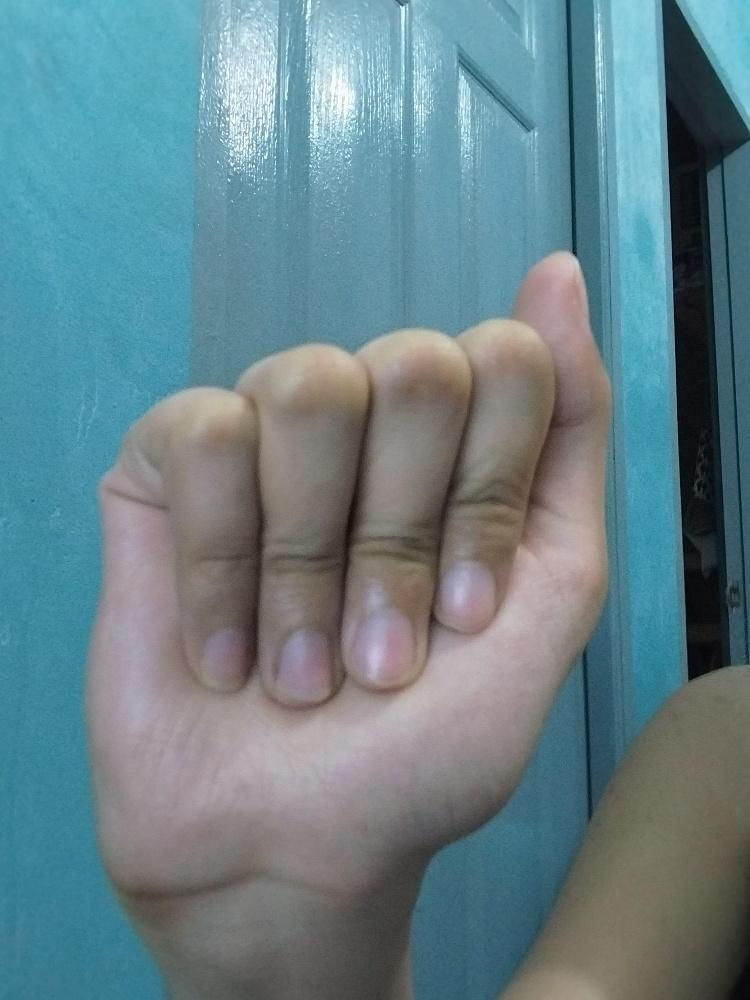a: (90, 247, 611, 893)
